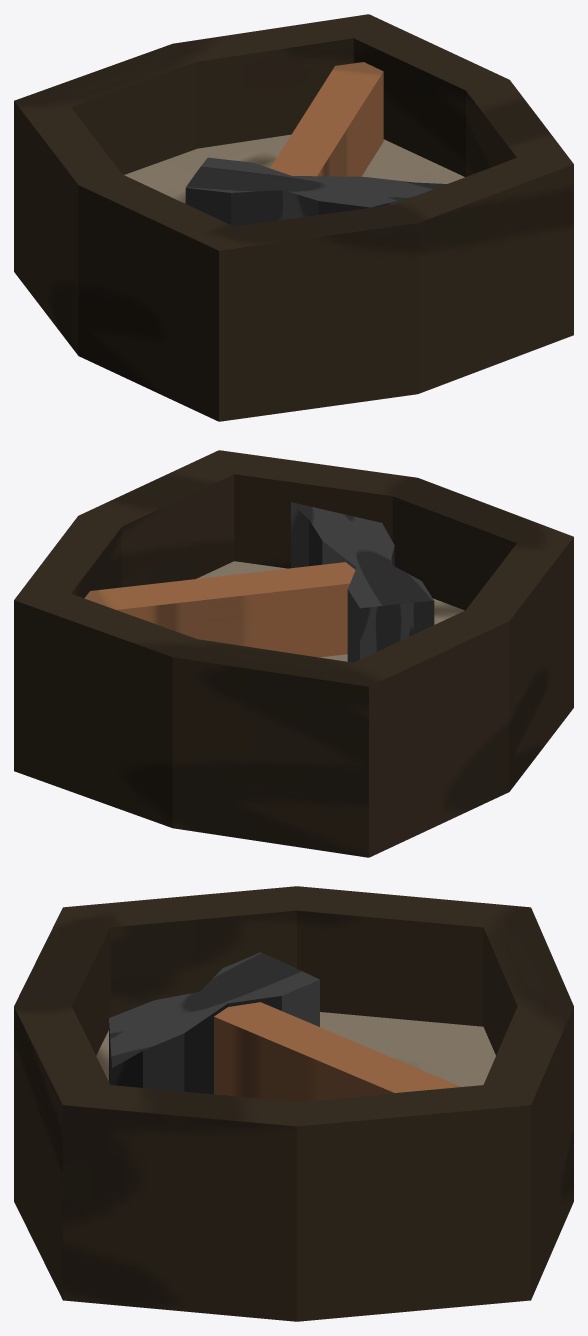
File: item-creator-badge.glb
3 renders of one model, top to bottom at view 1: azimuth 30°, elevation 25°; view 2: azimuth 150°, elevation 25°; view 3: azimuth 270°, elevation 25°, orthographic. The views are drawn at different scales.
Size of the model in its own units: 0.1648 by 0.0624 by 0.1623.
4 materials, 4 textured.
